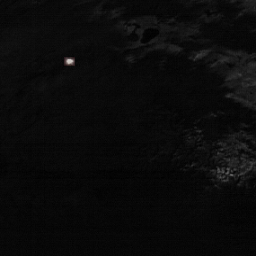Target: (64, 56, 74, 66)
